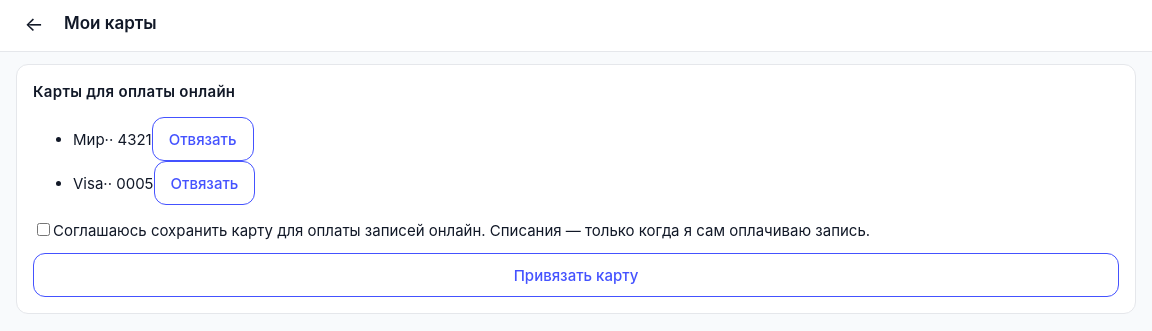
Test: CustomerCardsScreen (live C7.2) › revoke can be abandoned at the confirmation step
The image size is (1152, 331).
Step 1. Click the button "Отвязать" in the row of "Мир" → (203, 139), box [152, 117, 254, 161]
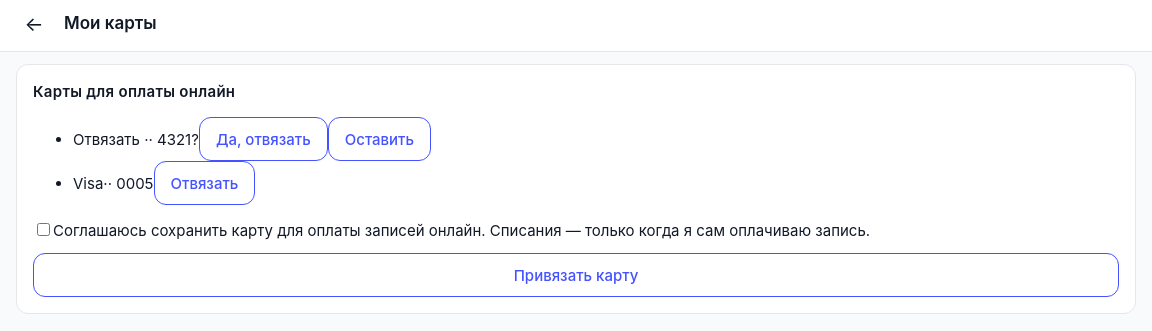
Step 2. Click the button "Оставить" → (379, 139), box [328, 117, 431, 161]
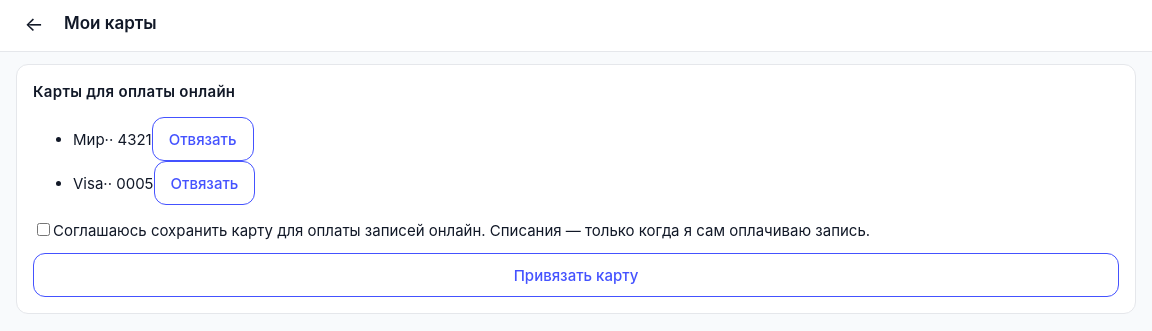
Expected: the text "Мир" is shown, [73, 130, 105, 148]
